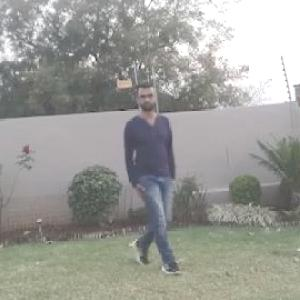follow: (110, 81, 174, 268)
